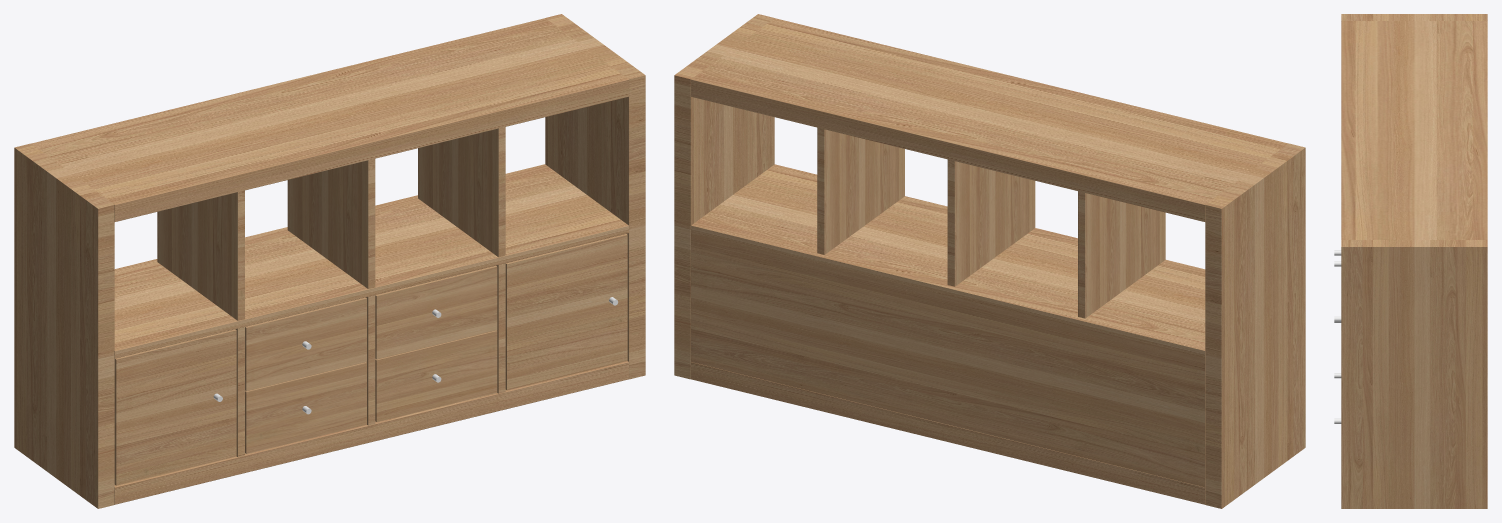
3 renders of one model, left to right at view 1: azimuth 30°, elevation 25°; view 2: azimuth 150°, elevation 25°; view 3: azimuth 270°, elevation 25°, orthographic. The views are drawn at different scales.
Parts seen in each view (by area): view 1: IKE170014; view 2: IKE170014; view 3: IKE170014.
Boxes of the visible parts, left/top/right/bottom form: IKE170014: left=14, top=14, right=645, bottom=508; IKE170014: left=674, top=14, right=1305, bottom=508; IKE170014: left=1334, top=14, right=1487, bottom=508.
Bounding box in the file's own units: 1.47 × 0.77 × 0.4084.
2 materials, 1 textured.
